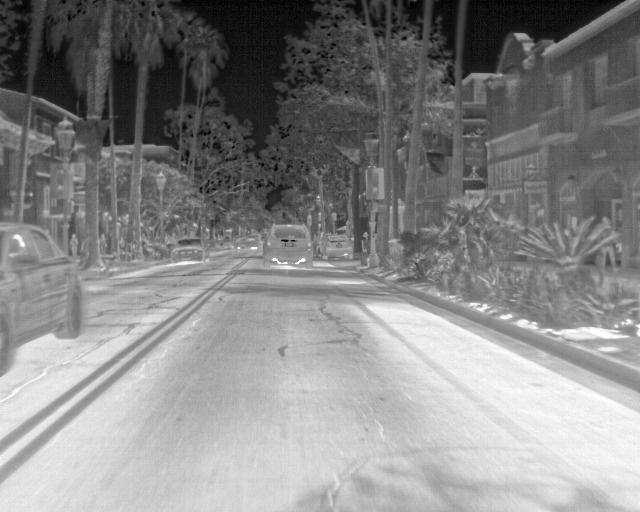bicycle: (0, 222, 84, 374), (265, 224, 314, 264), (171, 237, 211, 263), (320, 234, 354, 261), (229, 233, 263, 252)
empty: (594, 215, 622, 274), (68, 232, 80, 258), (97, 230, 110, 254)
